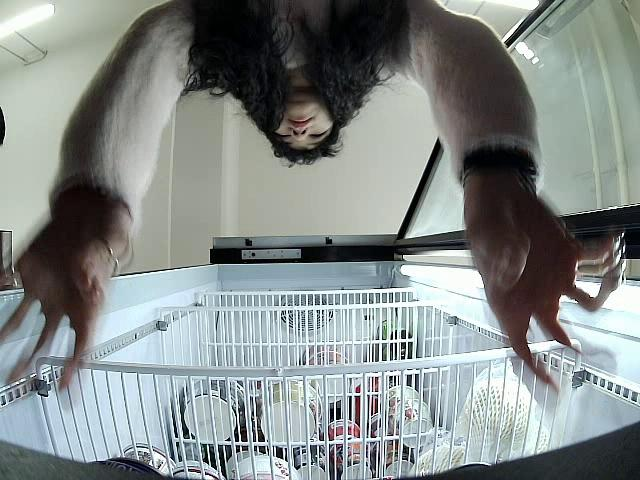00_hand: (462, 171, 625, 407), (0, 181, 129, 395)
